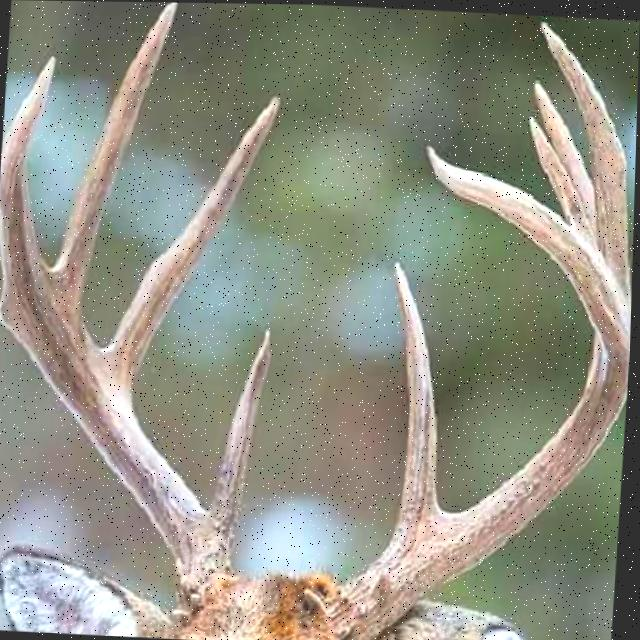L-F: (303, 136, 633, 640)
L-G1: (391, 256, 444, 538)
L-G2: (539, 14, 634, 306)
L-G3: (528, 109, 597, 247)
R-F: (0, 50, 241, 621)
R-G1: (211, 320, 275, 551)
R-G2: (104, 92, 282, 399)
R-G3: (54, 2, 180, 321)
